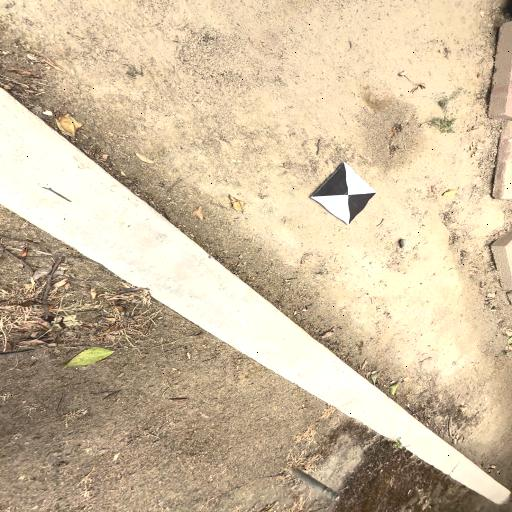target: (311, 162, 377, 225)
